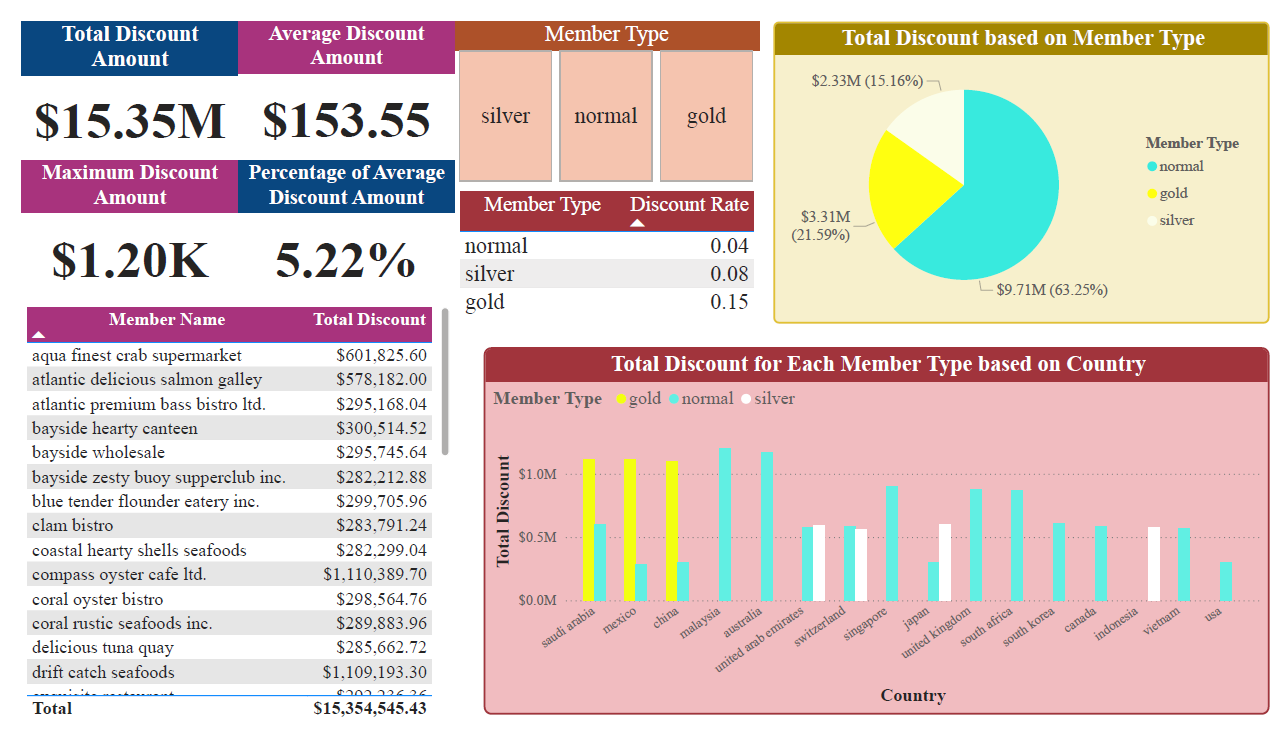

What the dashboard file says about the page in this screenshot:
{"tool":"powerbi","page":{"name":"Discount Information","canvas":[1280,720],"ordinal":8},"visuals":[{"type":"tableEx","fields":{"Values":["member data.member name","Sum(orderdata.Discount Amount)"]},"box":[0,287.9,443.8,432.6],"z":0},{"type":"advancedSlicerVisual","title":"Member Type","fields":{"Values":["member data.member type "]},"box":[443.8,0,313.4,168.6],"z":1000},{"type":"pieChart","title":"Total Discount based on Member Type ","fields":{"Category":["member data.member type "],"Y":["Sum(orderdata.Discount Amount)"]},"box":[771.2,0,509.1,310.1],"z":2000},{"type":"clusteredColumnChart","title":"Total Discount for Each Member Type based on Country","fields":{"Category":["member data.Country"],"Y":["Sum(orderdata.Discount Amount)"],"Series":["member data.member type "]},"box":[474,334,806.4,377],"z":3000},{"type":"tableEx","fields":{"Values":["discountrate data.member type","discountrate data.discount rate "]},"box":[443.8,168.6,313.4,141.6],"z":4000},{"type":"card","title":"Total Discount Amount","fields":{"Values":["Measures Folder.Total Discount"]},"box":[0,0,222.7,143.2],"z":5000},{"type":"card","title":"Average Discount Amount","fields":{"Values":["Measures Folder.Avg. Discount"]},"box":[222.7,0,221.1,143.2],"z":6000},{"type":"card","title":"Maximum Discount Amount","fields":{"Values":["Measures Folder.Max Discount"]},"box":[0,143.2,222.7,144.7],"z":7000},{"type":"card","title":"Percentage of Average Discount Amount","fields":{"Values":["Measures Folder.% Avg. Discount"]},"box":[222.7,143.2,221.1,144.7],"z":8000}]}

Visuals, with their boxes in screenshot pixels (x1, y1, x2, y2), scaled from the page's 1280x720 canvas onto the 1287x742 screenshot:
tableEx - member data.member name x Sum(orderdata.Discount Amount): [left=0, top=297, right=446, bottom=741]
"Member Type" advancedSlicerVisual: [left=446, top=0, right=761, bottom=174]
"Total Discount based on Member Type " pieChart: [left=775, top=0, right=1286, bottom=320]
"Total Discount for Each Member Type based on Country" clusteredColumnChart: [left=477, top=344, right=1286, bottom=733]
tableEx - discountrate data.member type x discountrate data.discount rate : [left=446, top=174, right=761, bottom=320]
"Total Discount Amount" card: [left=0, top=0, right=224, bottom=148]
"Average Discount Amount" card: [left=224, top=0, right=446, bottom=148]
"Maximum Discount Amount" card: [left=0, top=148, right=224, bottom=297]
"Percentage of Average Discount Amount" card: [left=224, top=148, right=446, bottom=297]
